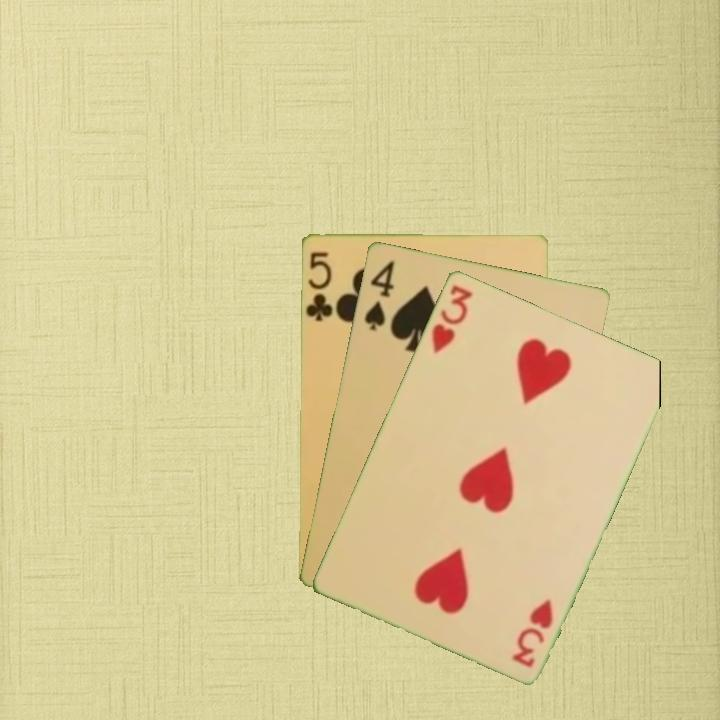3h: (427, 281, 476, 356), (508, 595, 556, 670)
4s: (360, 256, 397, 333)
5c: (303, 248, 335, 324)
